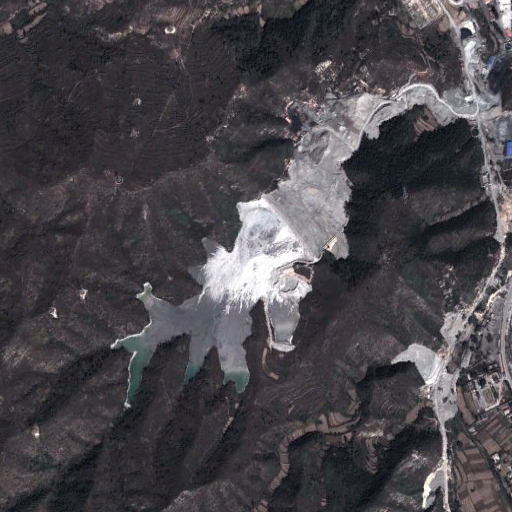tp: (112, 128, 353, 411)
